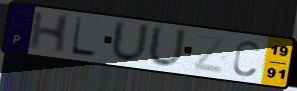C: (231, 39, 261, 78)
H: (27, 11, 73, 55)
L: (68, 16, 98, 60)
U: (109, 18, 153, 66), (146, 23, 190, 70)
Z: (191, 32, 230, 76)
